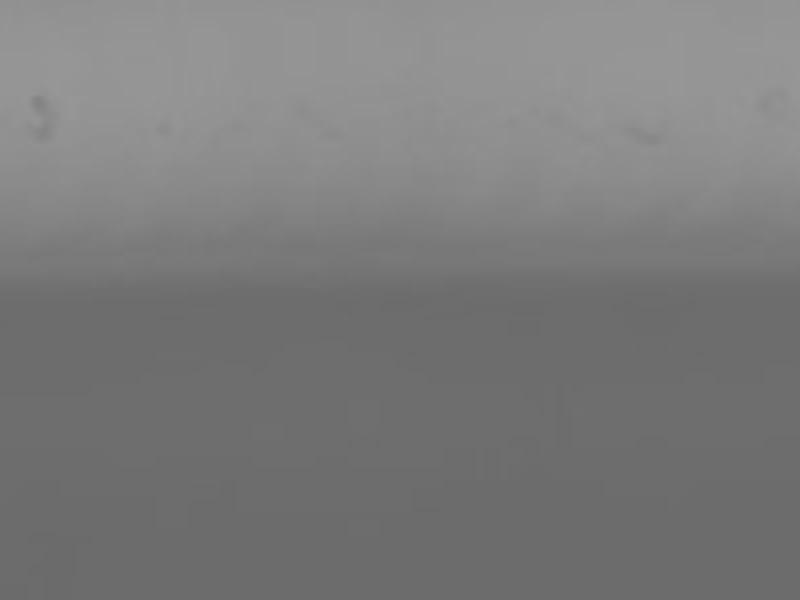defect: (28, 94, 59, 138), (625, 120, 662, 145), (157, 115, 173, 137)
